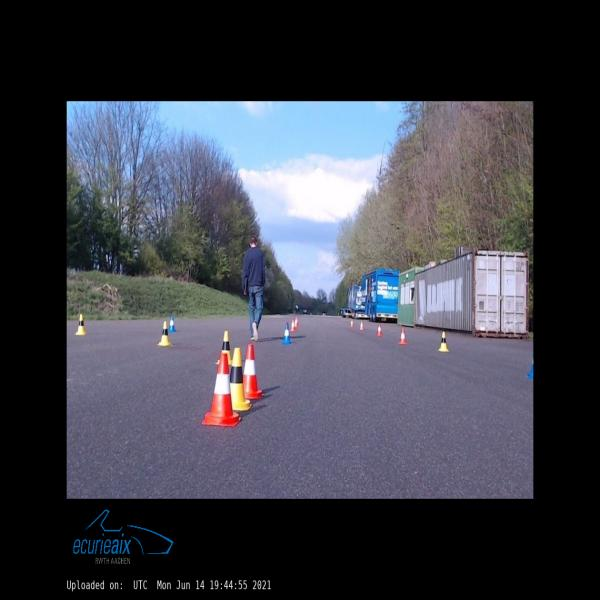blue_cone: (282, 324, 291, 344), (168, 316, 176, 332)
orange_cone: (201, 354, 241, 426), (243, 343, 264, 399), (399, 328, 407, 344), (377, 324, 382, 336), (290, 320, 295, 331), (294, 318, 297, 328), (360, 321, 363, 330), (350, 320, 353, 326)
yellow_cone: (230, 348, 251, 410), (216, 331, 232, 364), (157, 321, 172, 346), (75, 314, 86, 335), (438, 332, 449, 351)
